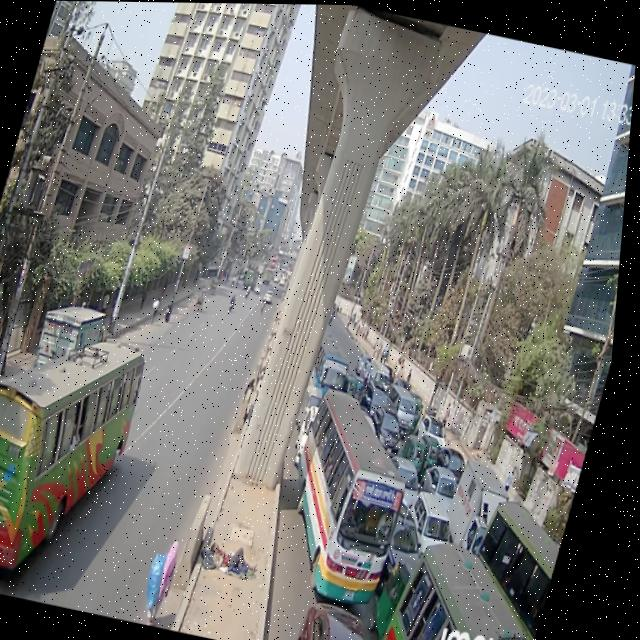cng: (418, 426, 454, 482), (401, 428, 437, 480)
